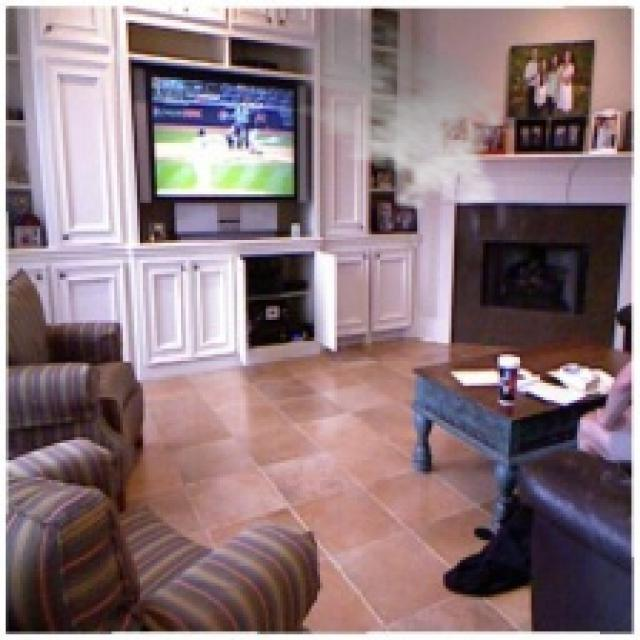Smoke: (283, 12, 512, 212)
